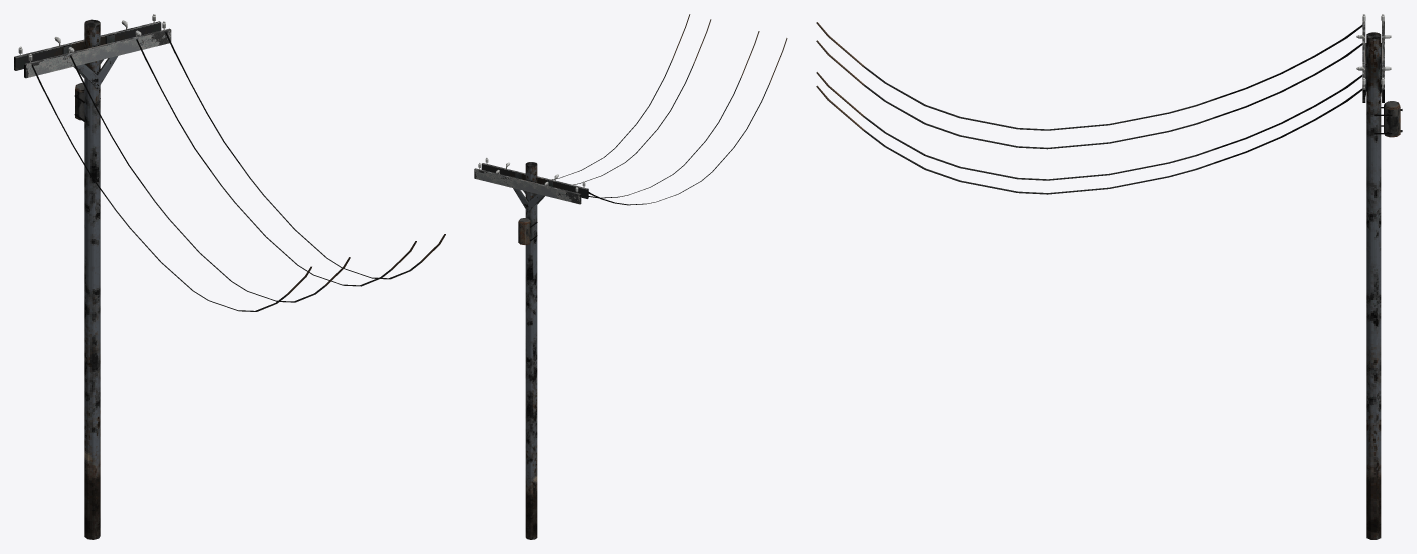
Rendered from Telegraph_pole_02.glb.
The picture shows the model from 3 angles, left to right: view 1: azimuth 30°, elevation 25°; view 2: azimuth 150°, elevation 25°; view 3: azimuth 270°, elevation 25°; orthographic projection. The views are drawn at different scales.
Visible parts, largest first — view 1: Telegraph_pole_02; view 2: Telegraph_pole_02; view 3: Telegraph_pole_02.
Boxes of the visible parts, box(x1,y1,x2,y2) form: Telegraph_pole_02: box(14, 14, 445, 539); Telegraph_pole_02: box(474, 14, 787, 539); Telegraph_pole_02: box(816, 14, 1402, 539).
Bounding box in the file's own units: 5.18 × 17.46 × 18.51.
1 material, 1 textured.
